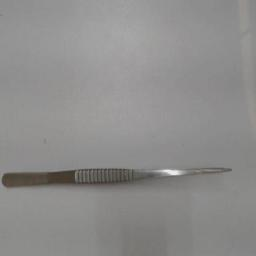DeBakey Dissector: (2, 147, 238, 195)
